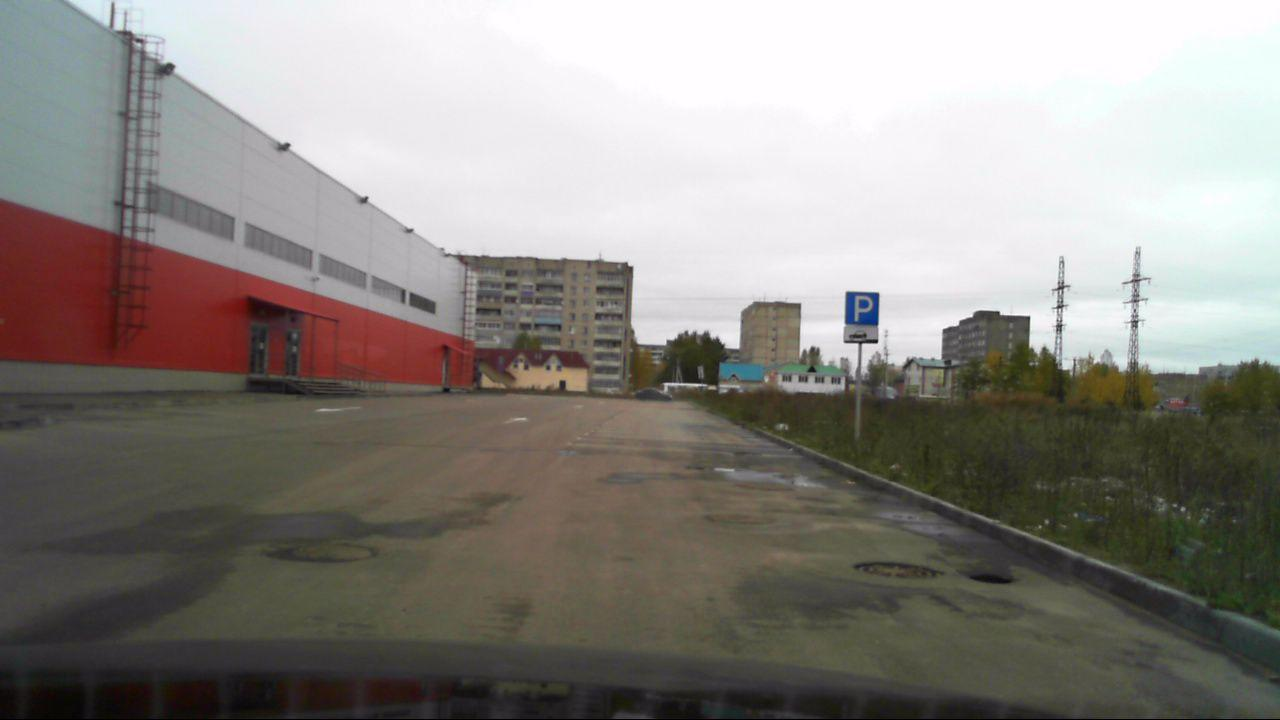6_4: (846, 293, 879, 324)
8_6_5: (843, 325, 879, 343)
